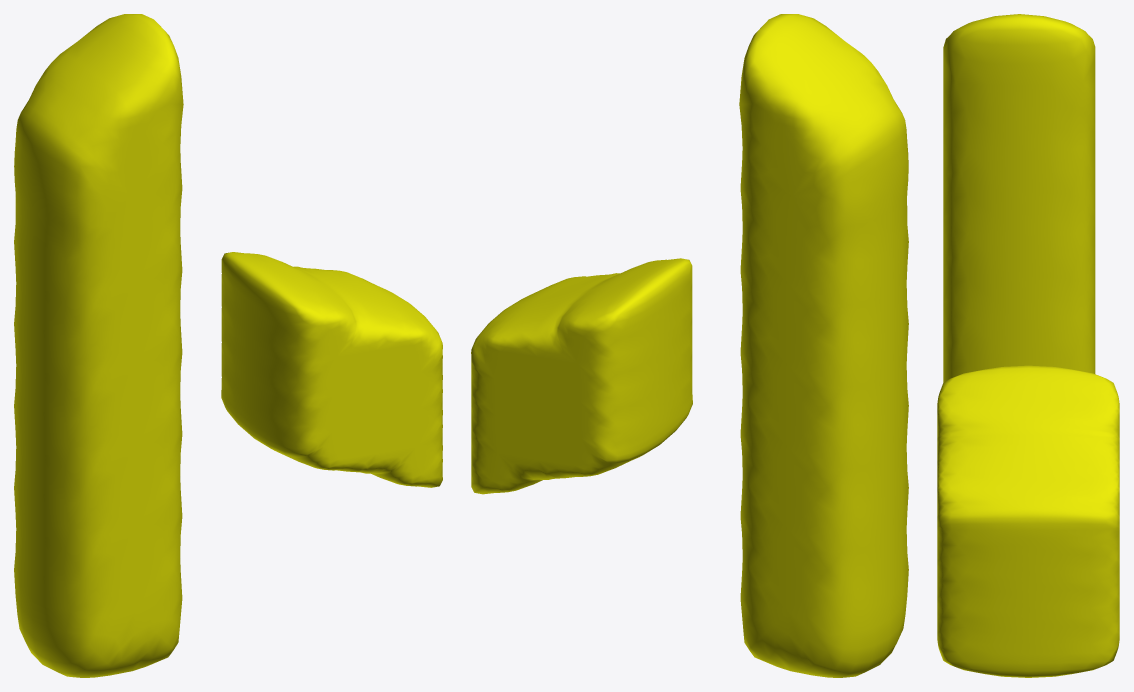
The picture shows the model from 3 angles, left to right: view 1: azimuth 30°, elevation 25°; view 2: azimuth 150°, elevation 25°; view 3: azimuth 270°, elevation 25°; orthographic projection. The views are drawn at different scales.
Parts seen in each view (by area): view 1: num_1, num_0; view 2: num_1, num_0; view 3: num_0, num_1.
Part boxes in pixels (x1=…): num_1: x1=14, y1=14, x2=183, y2=677; num_0: x1=221, y1=252, x2=442, y2=487; num_1: x1=739, y1=14, x2=908, y2=677; num_0: x1=471, y1=258, x2=692, y2=494; num_0: x1=937, y1=365, x2=1119, y2=677; num_1: x1=943, y1=14, x2=1095, y2=382.
Size of the model in its own units: 5.05 by 7.87 by 2.
